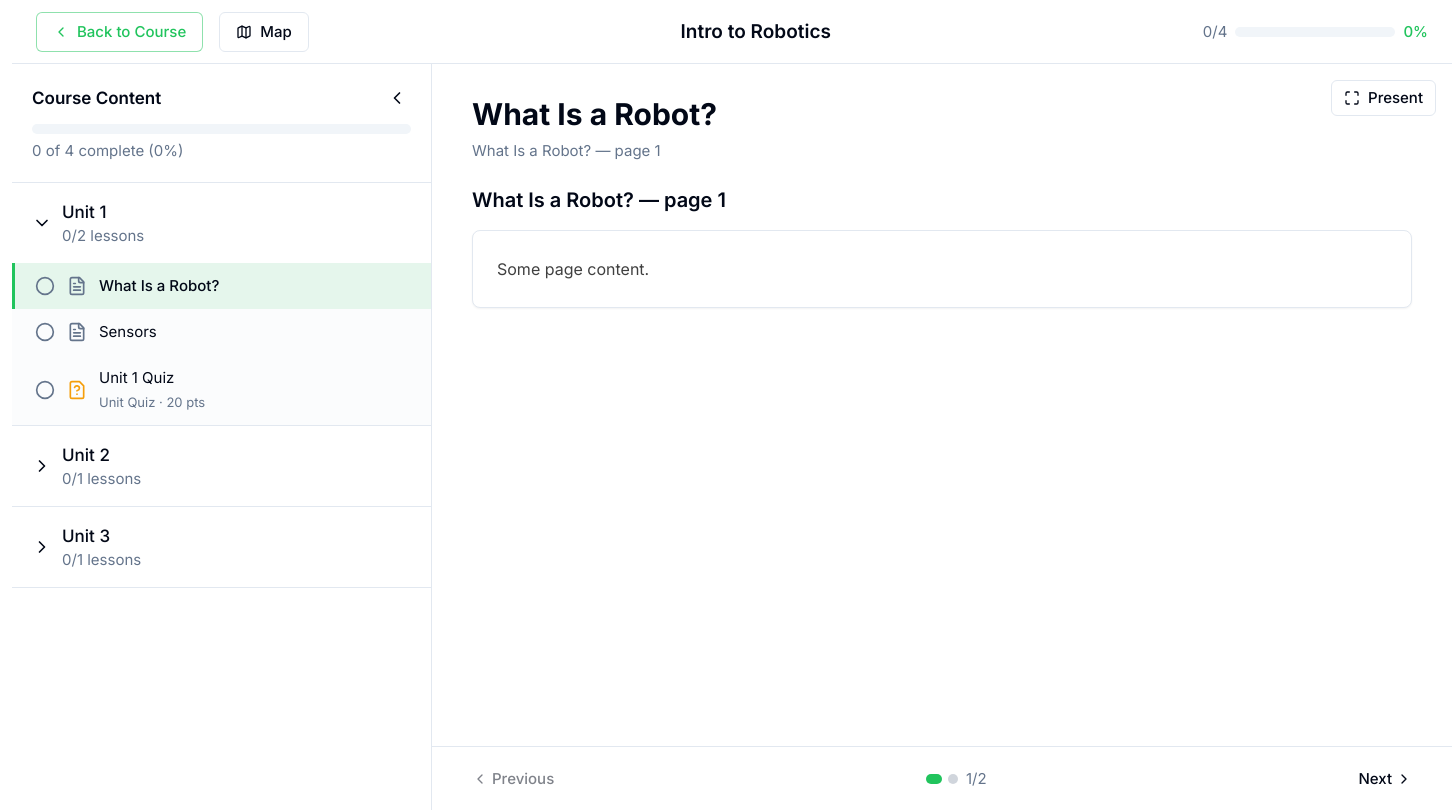
Test: CoursePlayerPage — lesson transitions (phase 70) › lands on page 1 when Mark Complete auto-advances
The image size is (1452, 810).
Expected: the heading "What Is a Robot?" is shown, [472,96,717,132]
Click the button "Next" at (1385,778), box [1342,758,1428,798]
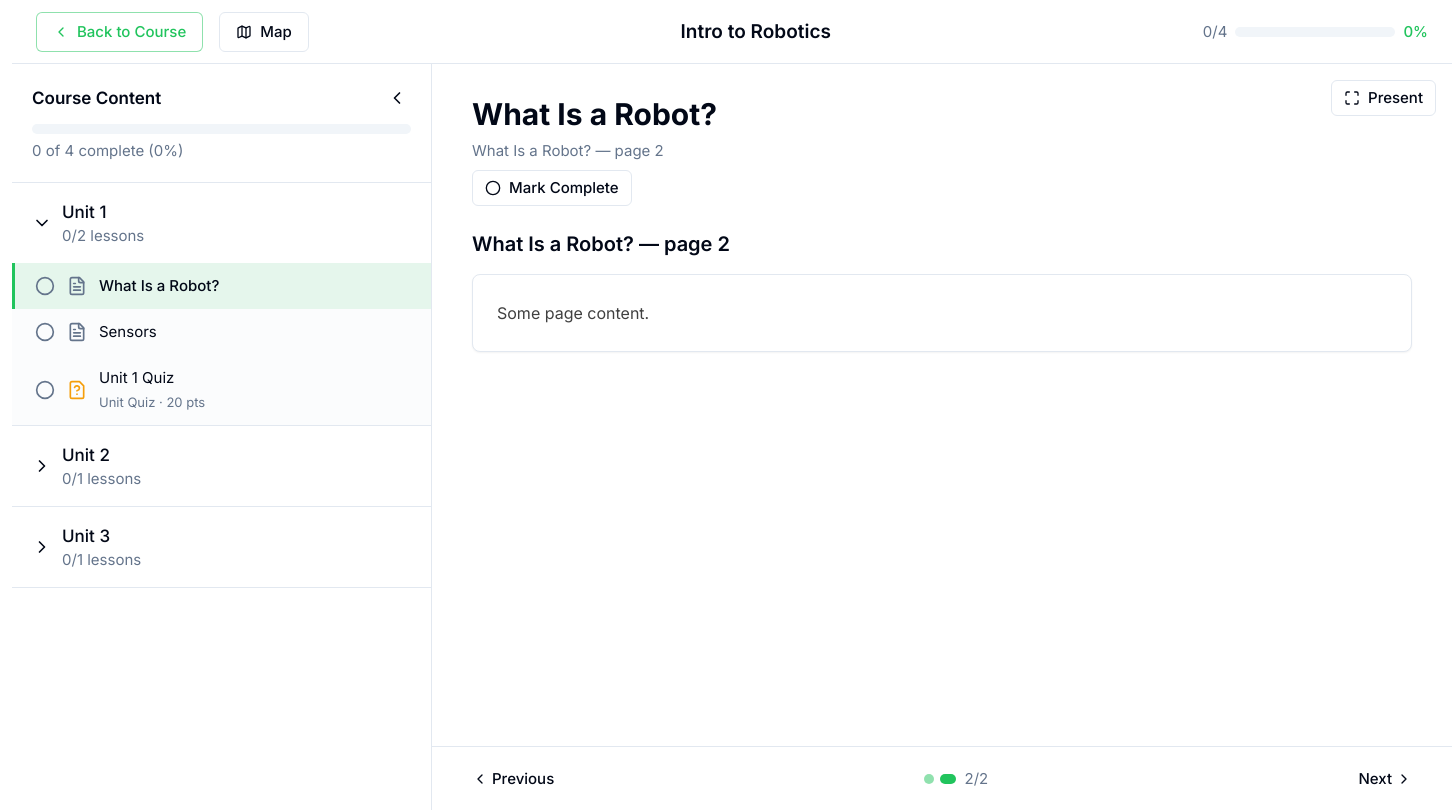
Click the button "Mark Complete" at (552,188), box [472,170,632,206]
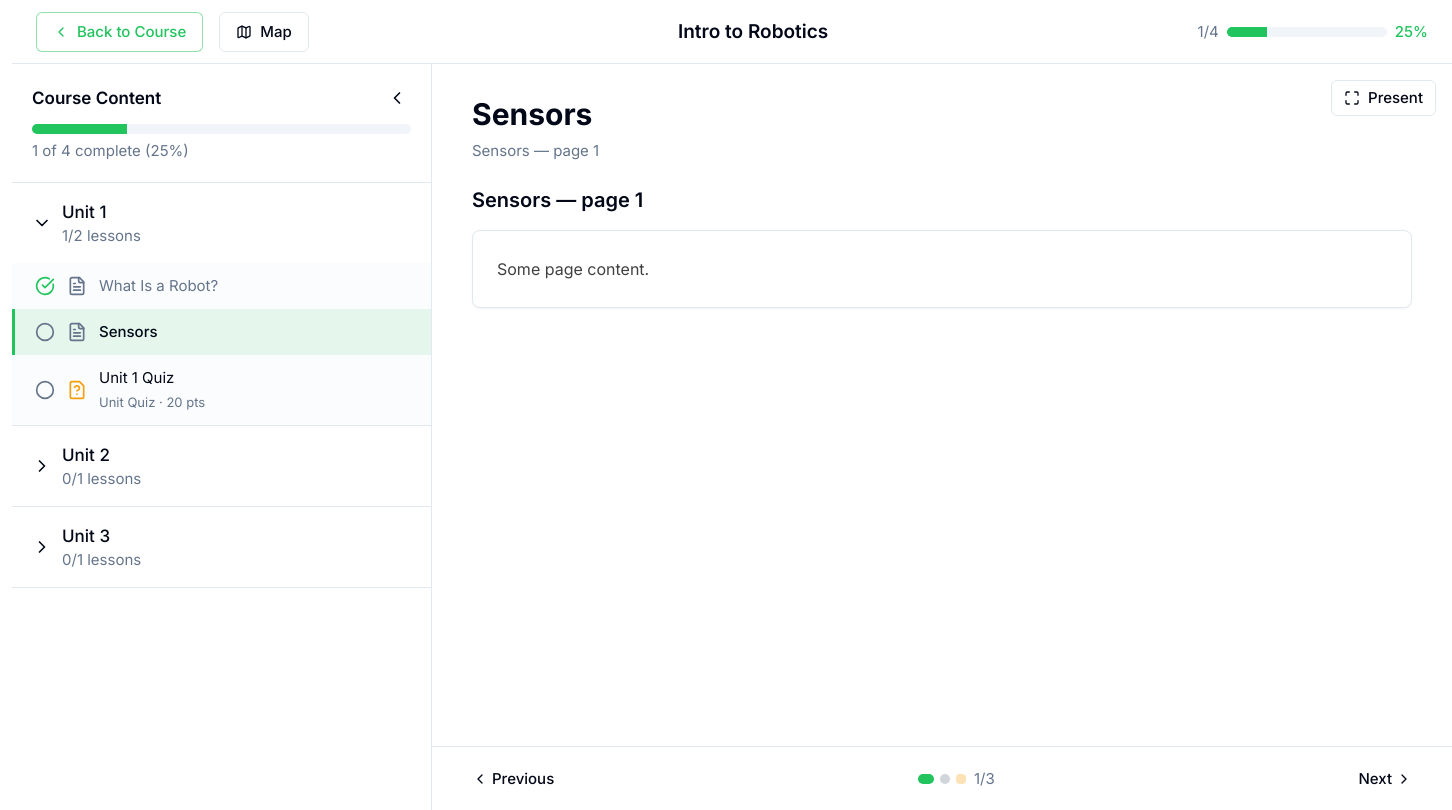
Expected: the heading "Sensors" is shown, [472,96,592,132]
Expected: the text with test id "page-indicator" reads "1/3", [974,768,995,790]
